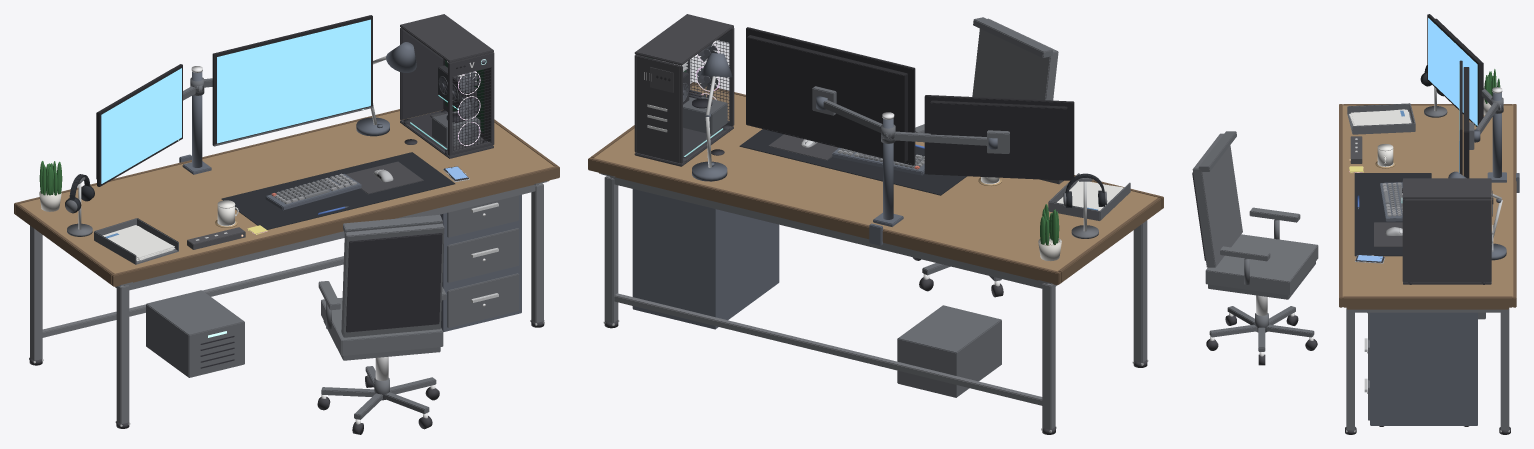
The model's file is terminal_desk.glb.
3 renders of one model, left to right at view 1: azimuth 30°, elevation 25°; view 2: azimuth 150°, elevation 25°; view 3: azimuth 270°, elevation 25°, orthographic. The views are drawn at different scales.
Parts seen in each view (by area): view 1: DCT_Desk_Wood, PcScreenQuad, DCT_Desk_SteelDark, DCT_Desk_Frame, DCT_Desk_Mesh, DCT_Desk_Edge, DCT_Desk_Tower, DCT_Desk_USV, PcStatusQuad, DCT_Desk_Leather, DCT_Desk_Fabric, DCT_Desk_Glass (+14 smaller); view 2: DCT_Desk_Plastic, DCT_Desk_Wood, DCT_Desk_Steel, DCT_Desk_Frame, DCT_Desk_Edge, DCT_Desk_Tower, DCT_Desk_USV, DCT_Desk_SteelDark, DCT_Desk_Fabric, DCT_Desk_Glass, DCT_Desk_Leather, DCT_Desk_Steel.001 (+8 smaller); view 3: DCT_Desk_Wood, DCT_Desk_Steel, DCT_Desk_Tower, DCT_Desk_Fabric, DCT_Desk_SteelDark, DCT_Desk_Edge, DCT_Desk_Frame, DCT_Desk_Leather, PcStatusQuad, DCT_Desk_Plastic, DCT_Desk_Steel.001, DCT_Desk_SteelDark.001 (+7 smaller).
Part boxes in pixels (<box>): DCT_Desk_Wood: <box>19,109,554,273</box>; PcScreenQuad: <box>217,19,370,143</box>; DCT_Desk_SteelDark: <box>78,78,519,419</box>; DCT_Desk_Frame: <box>30,181,547,423</box>; DCT_Desk_Mesh: <box>346,233,442,332</box>; DCT_Desk_Edge: <box>14,109,559,286</box>; DCT_Desk_Tower: <box>400,14,494,158</box>; DCT_Desk_USV: <box>146,290,244,377</box>; PcStatusQuad: <box>101,68,181,183</box>; DCT_Desk_Leather: <box>69,152,455,229</box>; DCT_Desk_Fabric: <box>318,223,446,355</box>; DCT_Desk_Glass: <box>402,30,447,152</box>; DCT_Desk_Plastic: <box>656,27,1074,180</box>; DCT_Desk_Wood: <box>594,84,1157,271</box>; DCT_Desk_Steel: <box>632,147,924,329</box>; DCT_Desk_Frame: <box>601,173,1147,429</box>; DCT_Desk_Edge: <box>588,82,1163,285</box>; DCT_Desk_Tower: <box>634,14,734,166</box>; DCT_Desk_USV: <box>897,305,1001,397</box>; DCT_Desk_SteelDark: <box>683,17,1130,281</box>; DCT_Desk_Fabric: <box>915,18,1058,133</box>; DCT_Desk_Glass: <box>683,31,731,160</box>; DCT_Desk_Leather: <box>739,129,1104,195</box>; DCT_Desk_Steel.001: <box>692,53,997,219</box>; DCT_Desk_Wood: <box>1342,105,1513,296</box>; DCT_Desk_Steel: <box>1370,172,1519,425</box>; DCT_Desk_Tower: <box>1402,178,1491,284</box>; DCT_Desk_Fabric: <box>1192,133,1318,295</box>; DCT_Desk_SteelDark: <box>1198,88,1498,420</box>; DCT_Desk_Edge: <box>1339,104,1516,309</box>; DCT_Desk_Frame: <box>1346,307,1509,430</box>; DCT_Desk_Leather: <box>1354,65,1431,256</box>; PcStatusQuad: <box>1428,18,1477,125</box>; DCT_Desk_Plastic: <box>1402,14,1493,203</box>; DCT_Desk_Steel.001: <box>1357,92,1506,260</box>; DCT_Desk_SteelDark.001: <box>1244,74,1503,332</box>.
Size of the model in its own units: 2.38 by 1.47 by 1.7.
